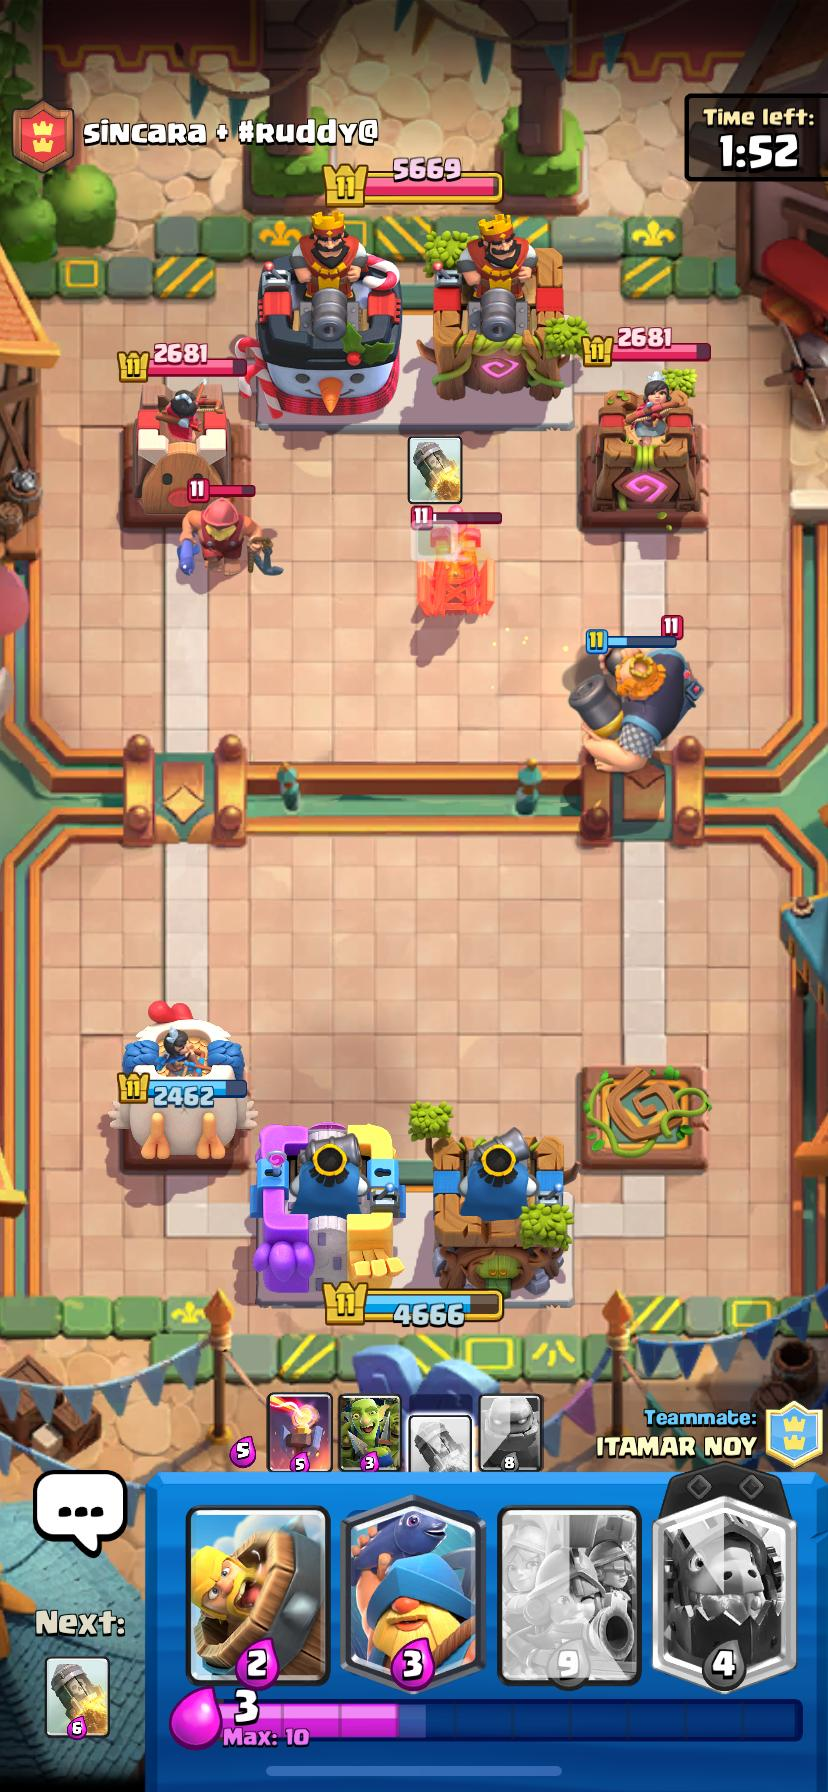EFisherman: (178, 498, 282, 575)
EKingTower: (253, 217, 401, 427), (419, 216, 562, 400)
EMiniPeka: (679, 667, 703, 719)
ETesla: (419, 531, 495, 616)
EnemyPrincessTower: (580, 374, 706, 529), (133, 379, 253, 517)
ORoyalG: (570, 635, 703, 773)
OwnKingTower: (250, 1123, 409, 1301), (433, 1128, 572, 1293)
OwnPrincessTower: (109, 1002, 255, 1161)
TowerDown: (579, 1065, 709, 1169)
